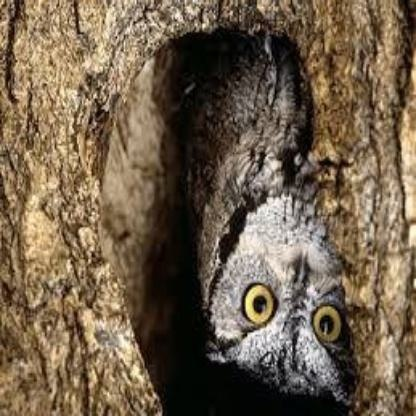Owl: (196, 50, 352, 388)
